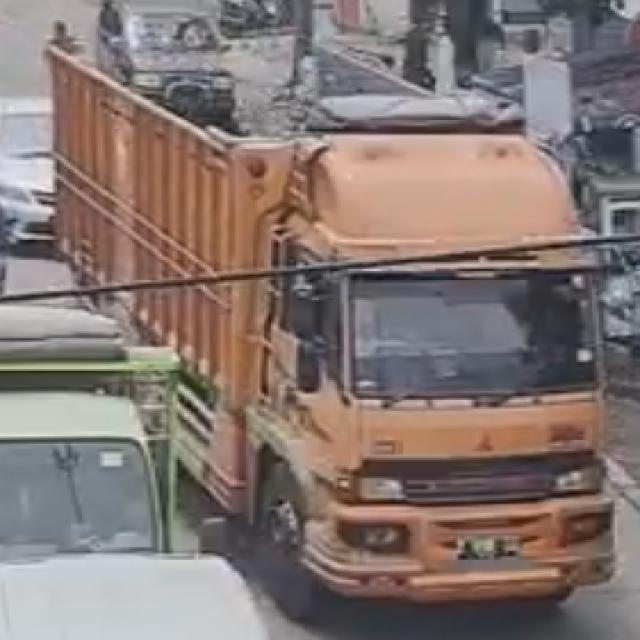truck: (239, 57, 640, 620)
